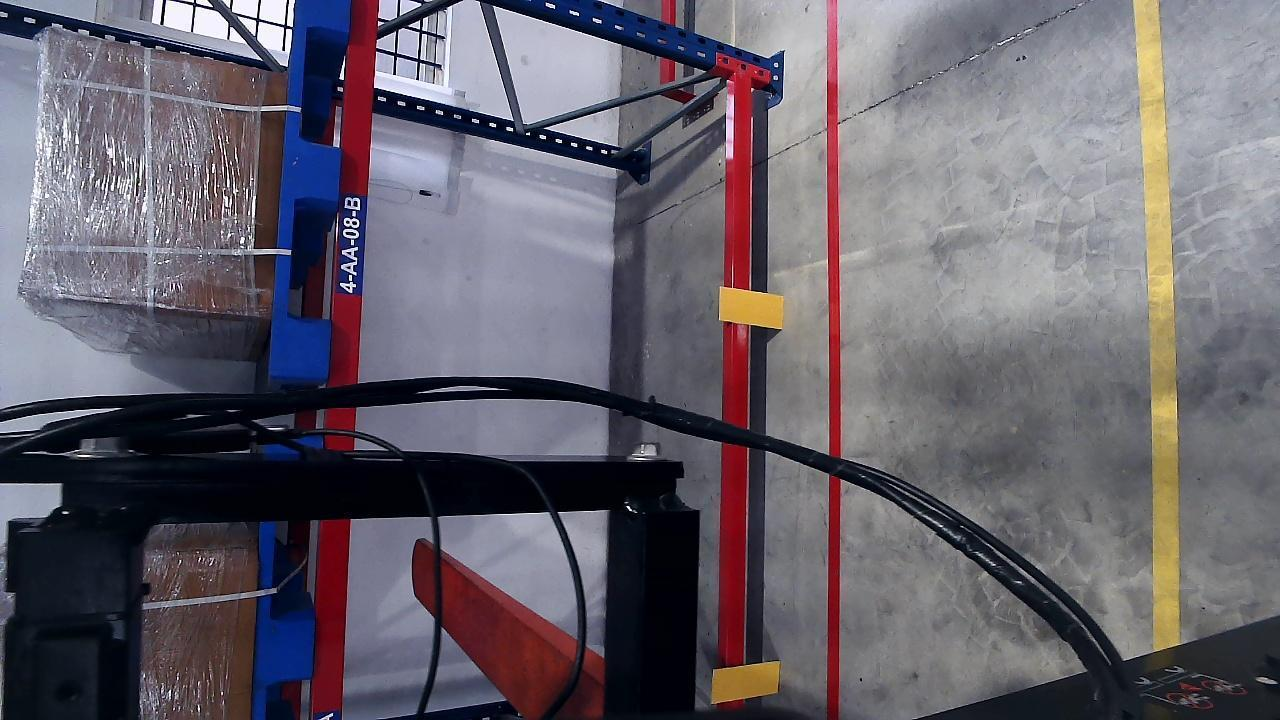red_line: (822, 2, 844, 715)
yellow_line: (1134, 0, 1181, 641)
